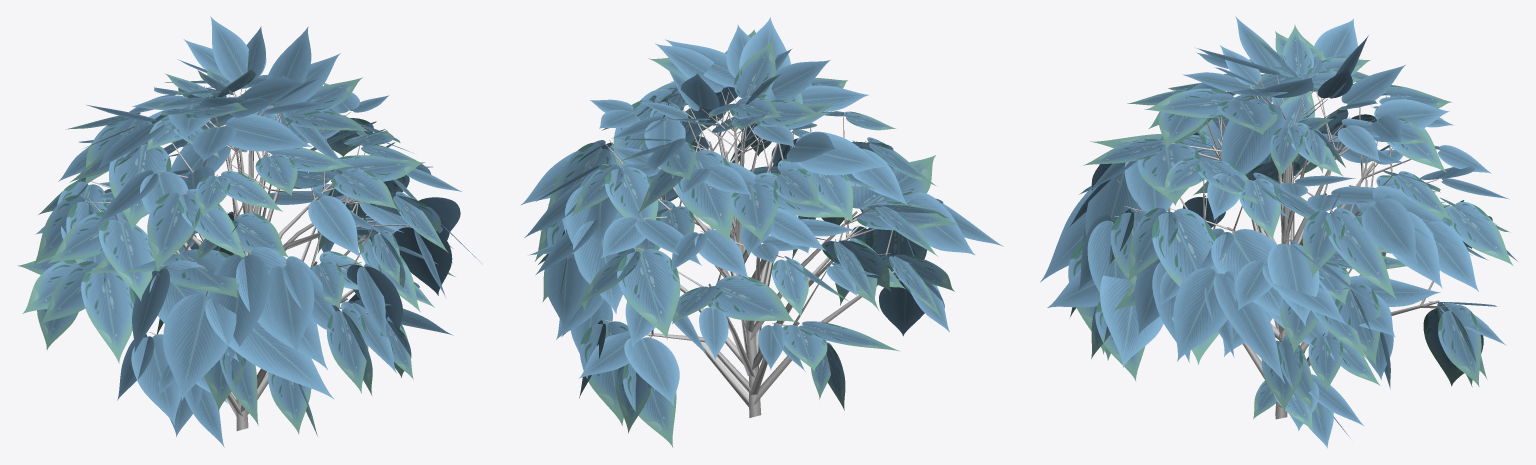
Rendered from arbuste_blue.fbx.
The picture shows the model from 3 angles, left to right: view 1: azimuth 30°, elevation 25°; view 2: azimuth 150°, elevation 25°; view 3: azimuth 270°, elevation 25°; orthographic projection. The views are drawn at different scales.
Parts seen in each view (by area): view 1: arbuste_blue; view 2: arbuste_blue; view 3: arbuste_blue.
Boxes of the visible parts, x1,y1,x2,y2 form: arbuste_blue: [17, 16, 482, 447]; arbuste_blue: [520, 17, 1003, 447]; arbuste_blue: [1040, 16, 1517, 448].
Bounding box in the file's own units: 162 × 144 × 162.
